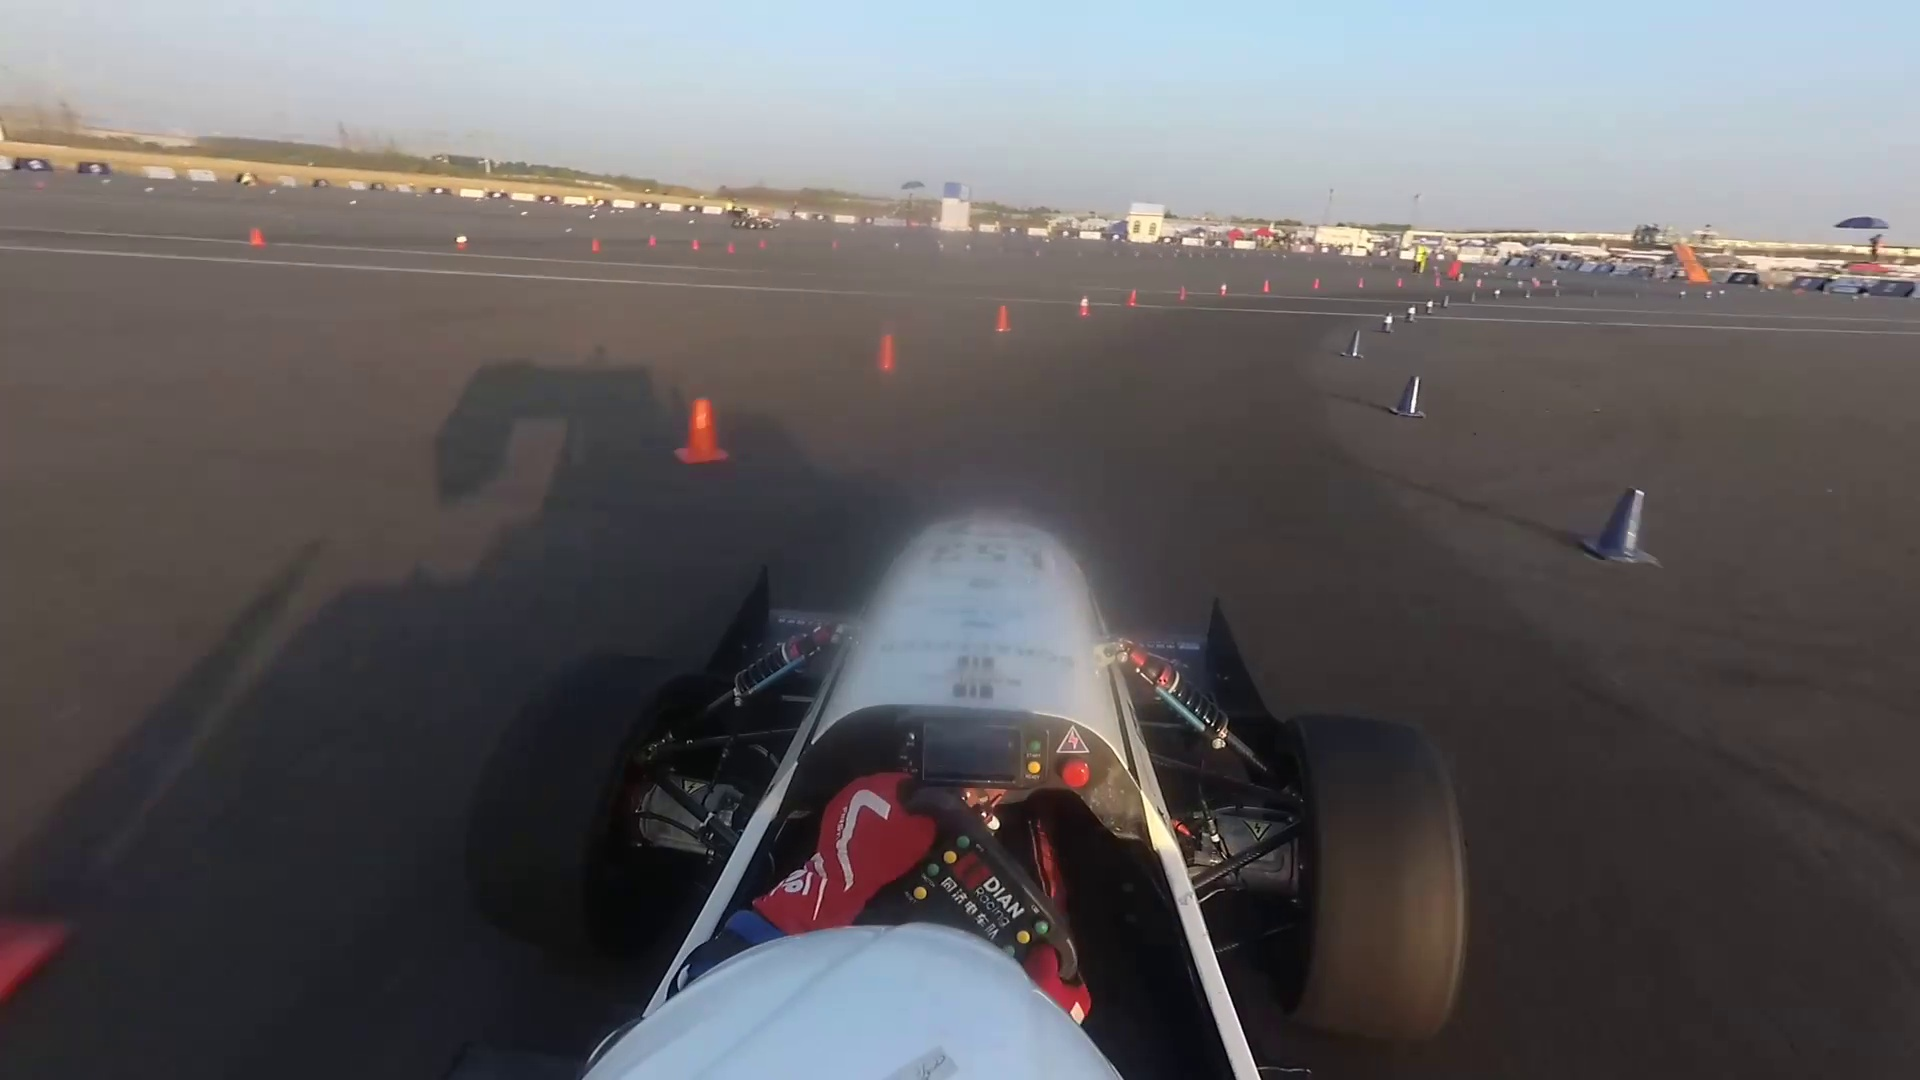blue_cone: (1582, 484, 1659, 566), (1391, 375, 1422, 419), (1345, 331, 1362, 361), (1381, 313, 1395, 334), (1404, 305, 1416, 323), (1425, 299, 1433, 314), (1705, 287, 1713, 301), (1524, 289, 1532, 299), (1592, 289, 1600, 299), (1679, 290, 1687, 301), (1443, 295, 1449, 307), (1470, 294, 1477, 305), (1494, 289, 1501, 299), (1720, 287, 1725, 298), (1553, 289, 1560, 297), (1635, 291, 1640, 299)
red_cone: (673, 400, 731, 465), (874, 335, 899, 375), (245, 225, 270, 249), (996, 305, 1013, 334), (1077, 295, 1092, 316), (589, 236, 603, 256), (1127, 289, 1139, 307), (458, 233, 468, 253), (646, 235, 659, 249), (1220, 282, 1230, 298), (1433, 274, 1443, 287), (1262, 281, 1270, 294), (1312, 278, 1320, 290), (1357, 277, 1365, 289), (1396, 277, 1404, 289), (1179, 287, 1185, 301), (1476, 278, 1484, 287)
